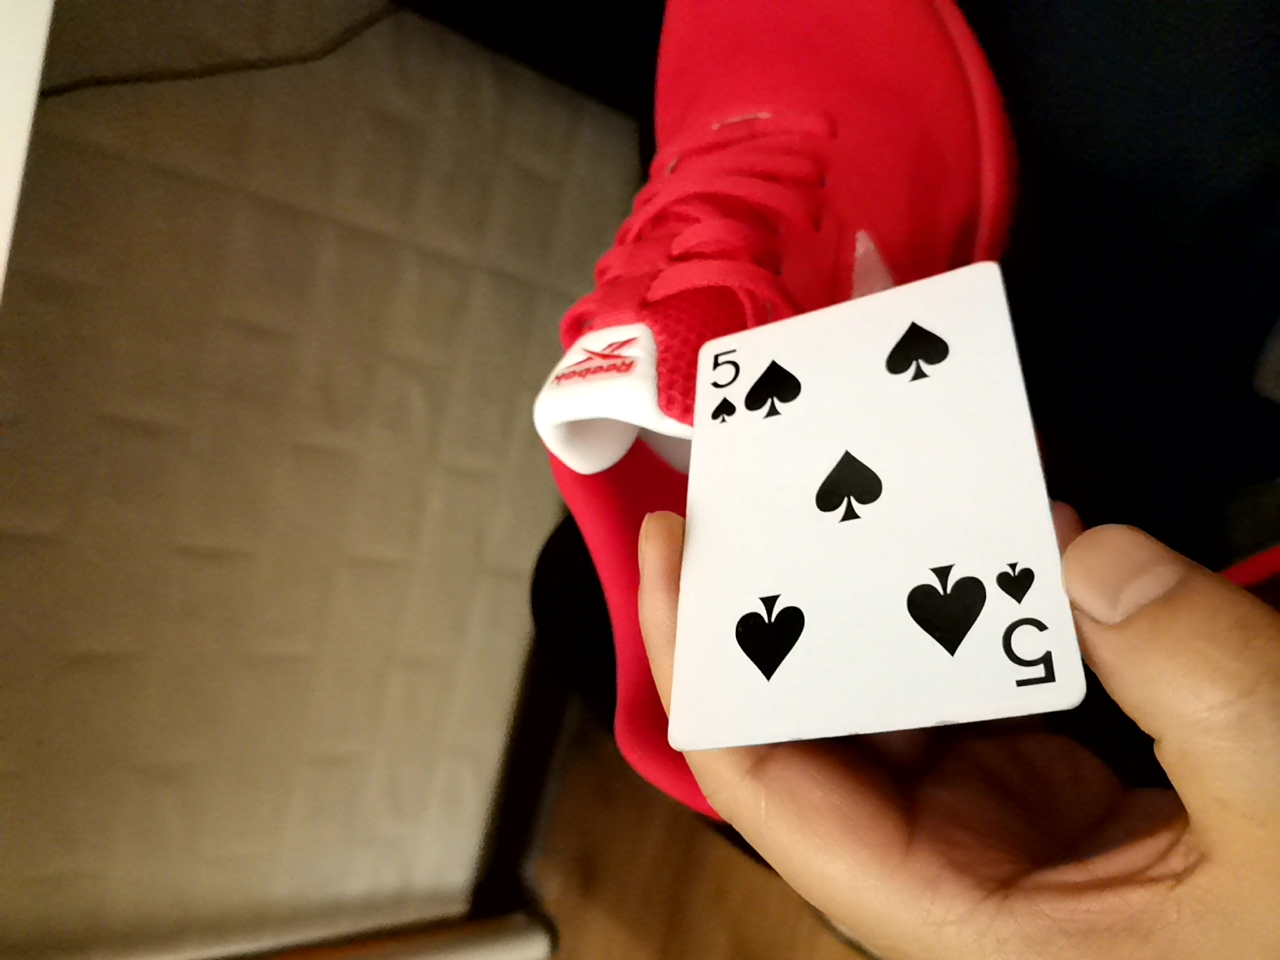ht 5: (642, 259, 1083, 770)
